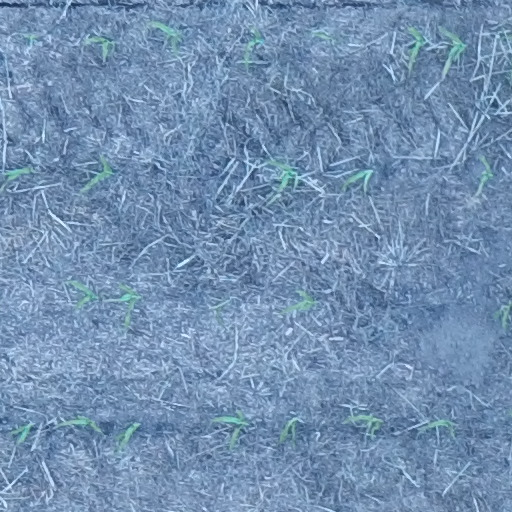planta: (211, 410, 248, 449), (439, 27, 466, 80), (268, 158, 302, 199), (79, 155, 114, 193), (149, 20, 182, 55), (118, 283, 141, 327), (278, 288, 316, 314), (67, 280, 99, 309), (407, 26, 426, 71), (81, 36, 116, 60), (241, 29, 263, 67), (341, 168, 374, 190), (114, 424, 139, 452), (58, 416, 100, 432), (420, 418, 456, 436), (477, 155, 495, 187), (3, 166, 35, 182), (345, 414, 373, 432), (9, 424, 34, 444), (279, 418, 297, 445), (370, 415, 383, 438)
